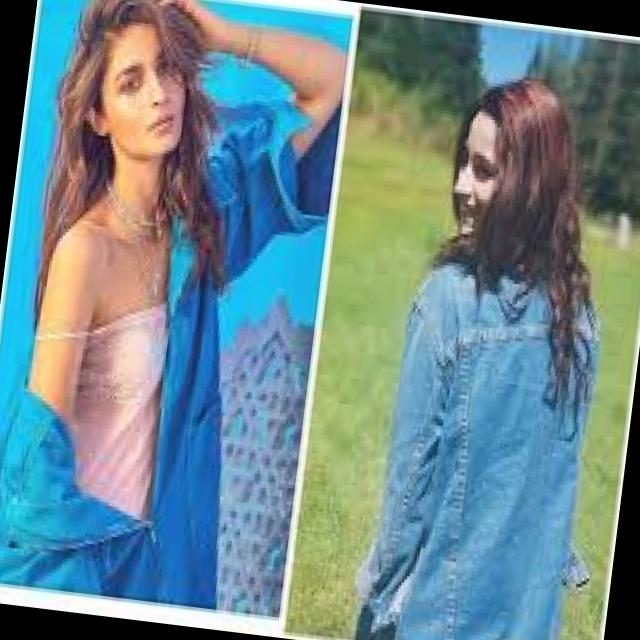Jacket: (7, 92, 264, 628), (282, 166, 600, 592)
